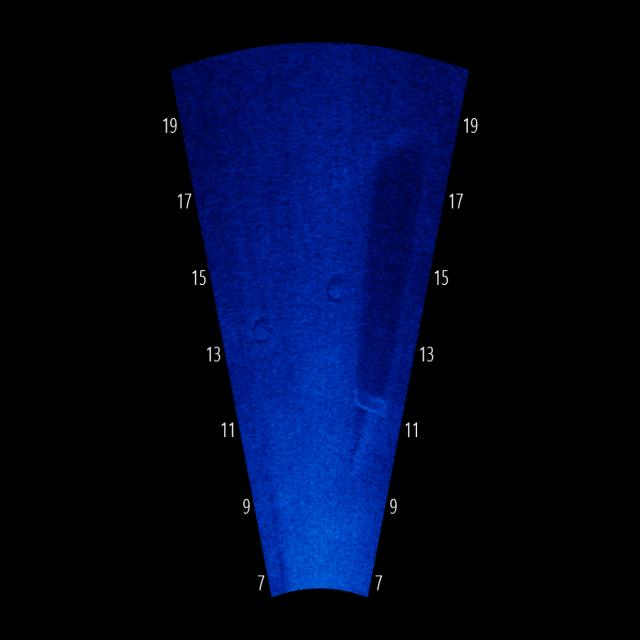circle: (245, 311, 281, 354), (321, 275, 349, 311)
triangle: (346, 374, 388, 486)
